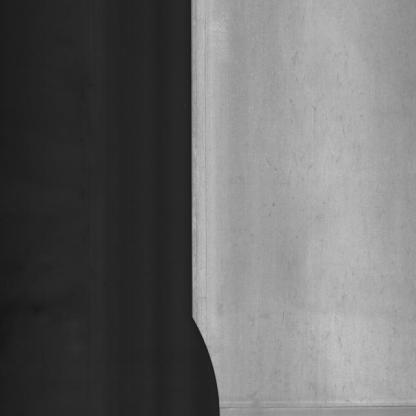crescent_gap: (175, 303, 227, 416)
welding_line: (207, 394, 416, 413)
